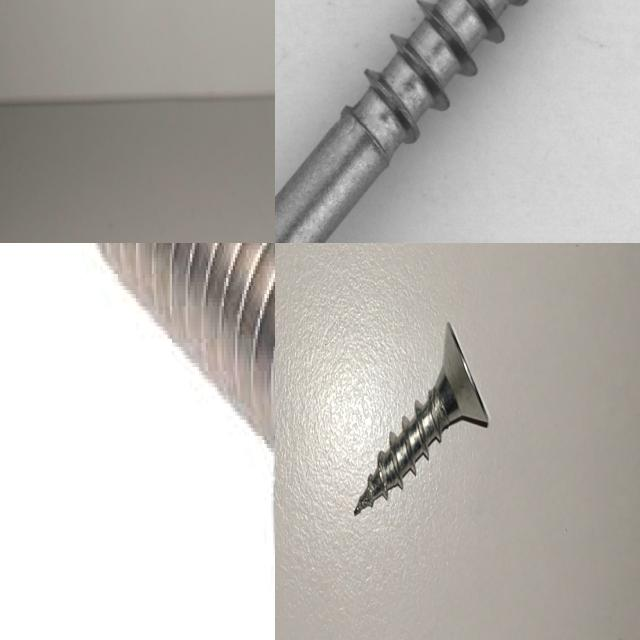Screw: (275, 0, 604, 243), (354, 322, 490, 514)
